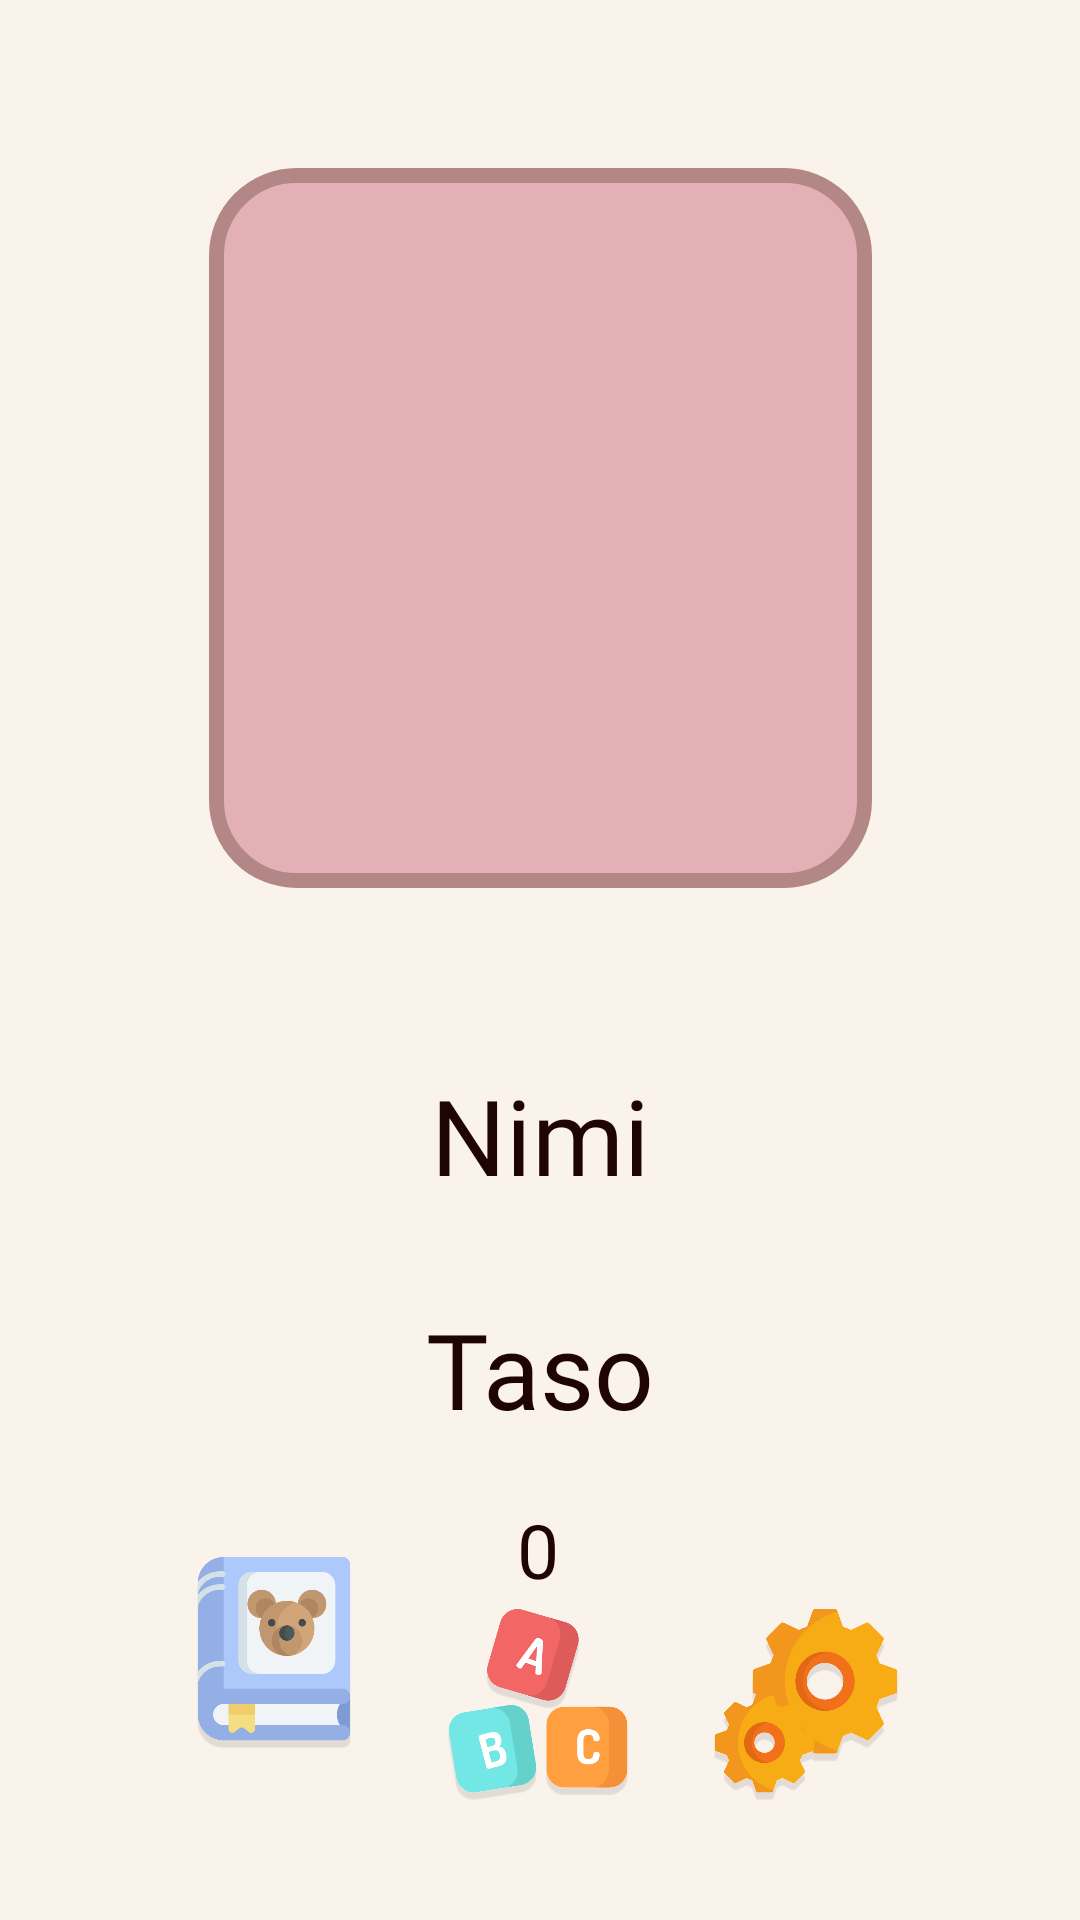

Icons on this 1080*1920 Android screen, each with its box as (x1, y1, x2, y2):
settingsicon: (715, 1609, 897, 1798)
